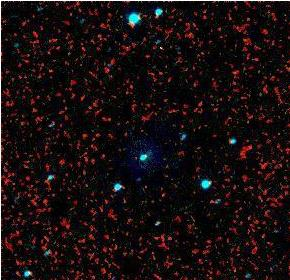star: (137, 31, 167, 61)
